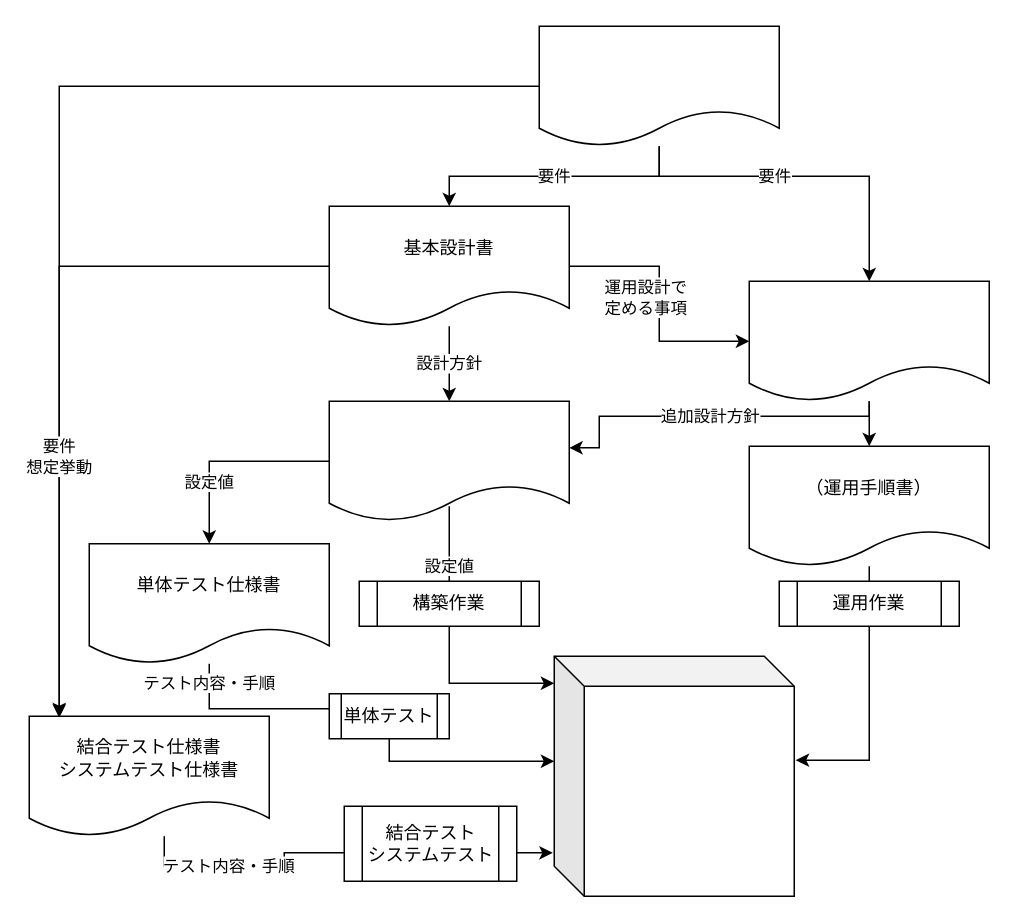
This 1016x923 diagram has some shape labels left out. Each missing label, with the box of its shape:
システム環境: (553, 655, 794, 896)
要件定義書: (538, 25, 779, 146)
詳細設計書: (328, 400, 569, 521)
運用設計書: (748, 280, 989, 401)
